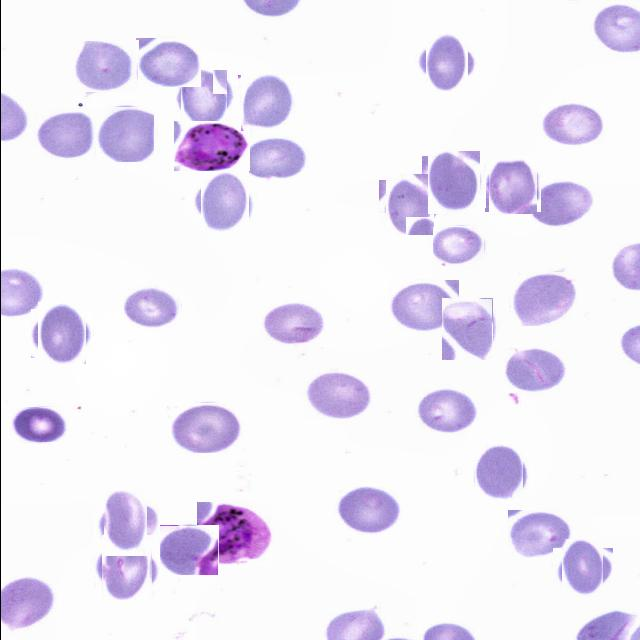difficult: (173, 121, 249, 171)
red blood cell: (166, 403, 243, 453), (387, 280, 458, 332), (510, 271, 576, 326), (95, 106, 158, 162), (527, 180, 597, 230), (302, 370, 372, 419), (73, 40, 138, 92), (33, 109, 99, 160), (96, 538, 154, 596), (424, 153, 482, 211), (335, 488, 402, 536), (135, 38, 200, 87), (441, 298, 492, 360), (196, 174, 252, 230), (238, 74, 294, 130), (507, 510, 572, 558), (33, 306, 89, 361), (471, 446, 526, 501), (382, 176, 436, 232), (98, 496, 152, 551), (159, 525, 218, 575), (416, 388, 477, 436), (502, 348, 567, 393), (538, 101, 603, 146), (262, 303, 326, 346), (486, 162, 538, 214), (556, 544, 608, 594), (242, 138, 305, 178), (178, 71, 228, 121), (420, 37, 470, 87), (123, 285, 181, 328), (432, 226, 484, 266), (10, 407, 67, 442)
trophozoite: (196, 502, 273, 565)
